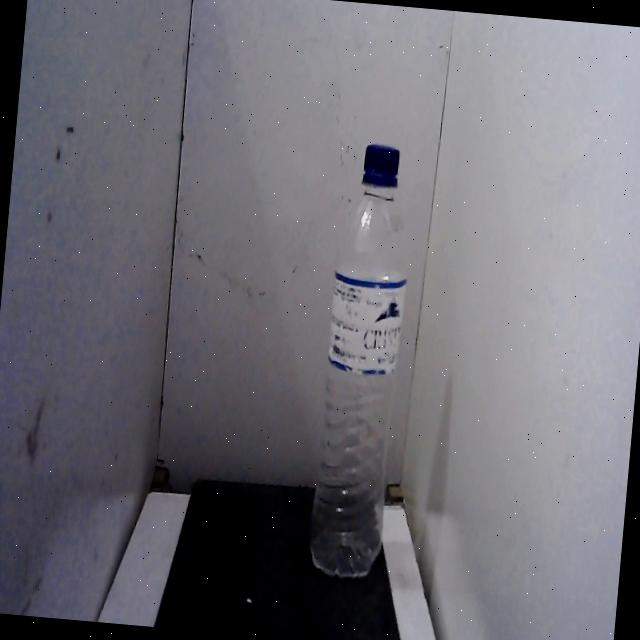plastic: (294, 111, 428, 596)
